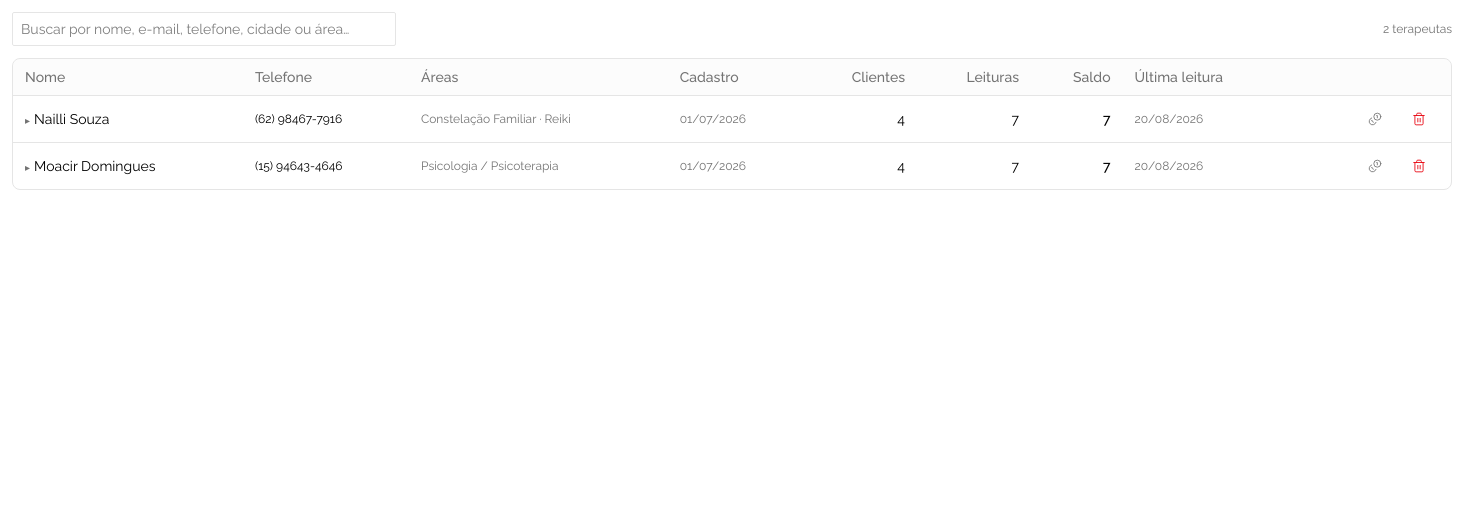
Test: TherapistTable — a ficha da pessoa › abre ao clicar na linha e traz cadastro, cobrança e termos
This screenshot has width=1464, height=509.
Expected: the text "Áreas que ele marcou" is not shown
What coordinates should you click on to do the following:
click the text "Nailli Souza"
I would click on:
 (72, 119)
Its box is [13,96,243,142].
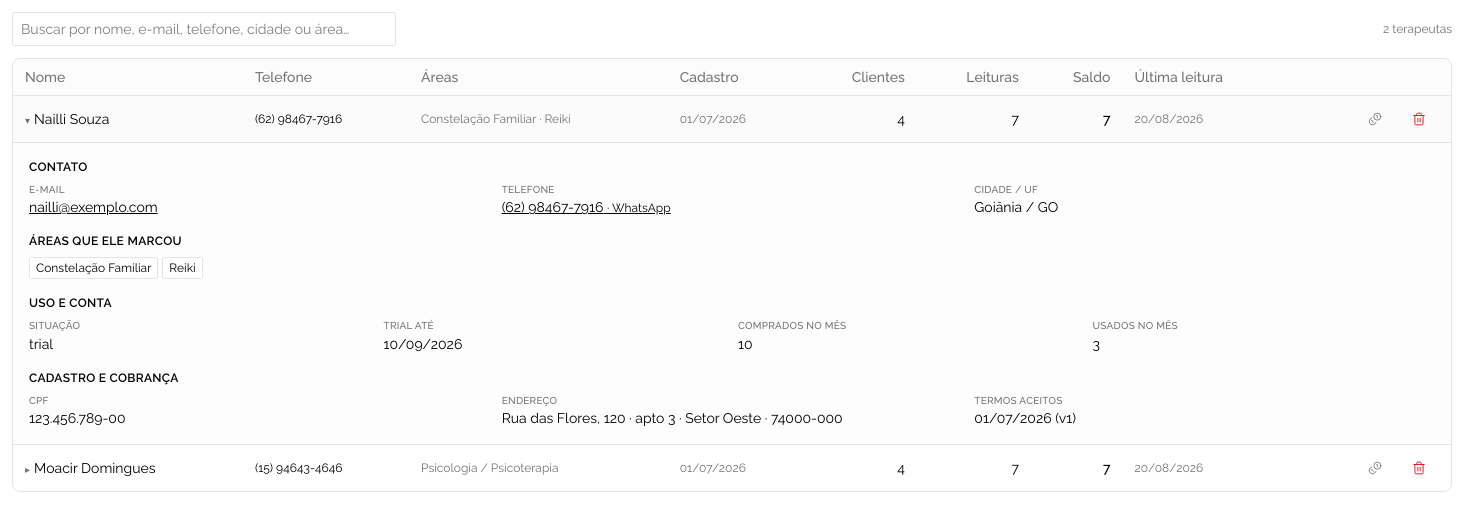
Expected: the heading "Áreas que ele marcou" is shown, [29,234,182,248]
Expected: the text "Goiânia / GO" is shown, [974,199,1058,215]
Expected: the text "123.456.789-00" is shown, [29,410,126,426]
